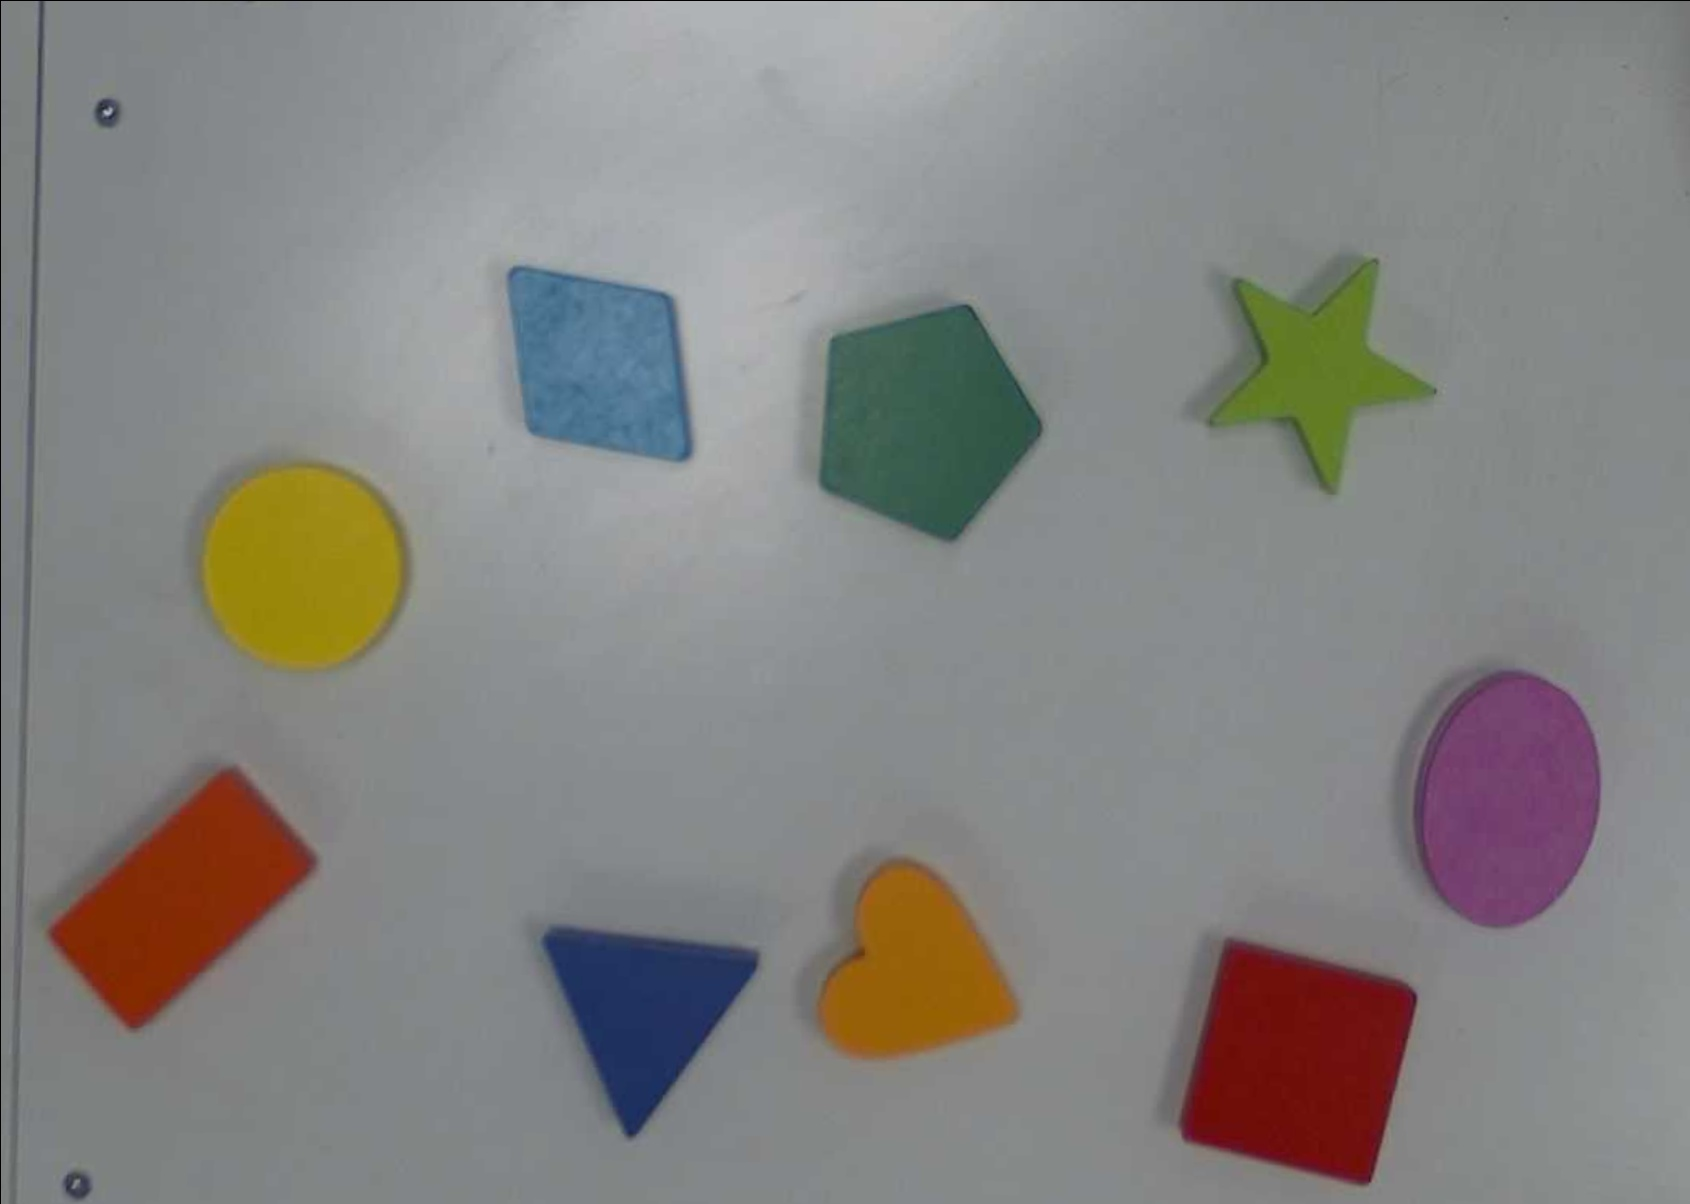Circle: (194, 457, 412, 678)
Ellipse: (1410, 662, 1611, 934)
Heart: (813, 848, 1027, 1065)
Parallelogram: (503, 253, 697, 466)
Pentagon: (813, 296, 1052, 551)
Rectangle: (44, 760, 322, 1035)
Square: (1173, 934, 1425, 1192)
Star: (1195, 253, 1439, 504)
Triangle: (536, 916, 760, 1147)
